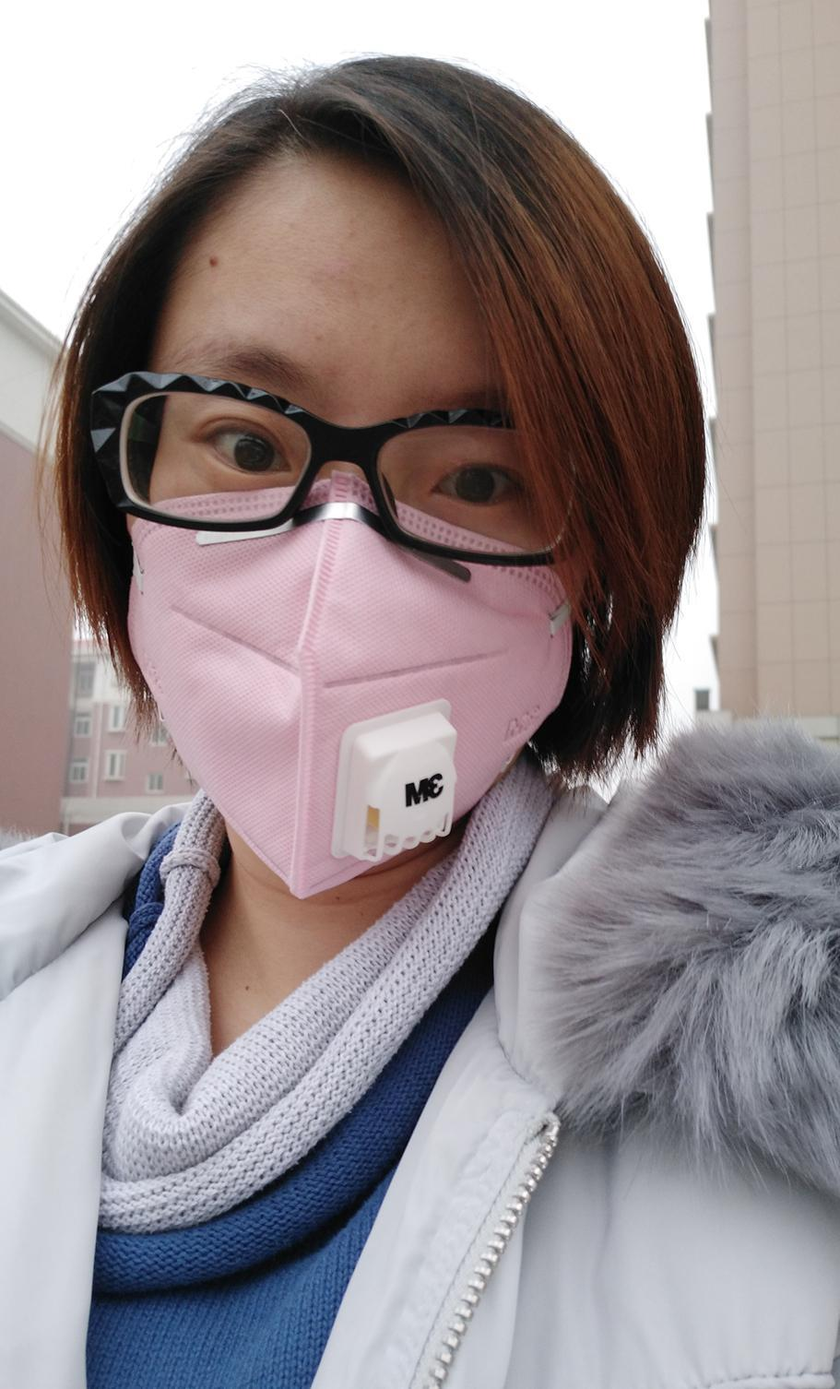OK: (95, 294, 646, 880)
